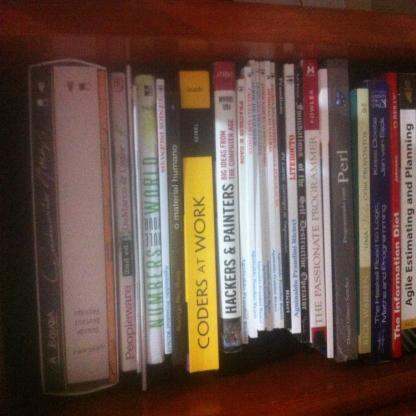book: (23, 56, 416, 402)
